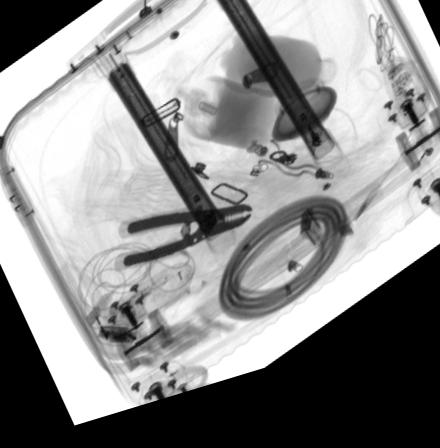Pliers: (122, 218, 251, 272)
